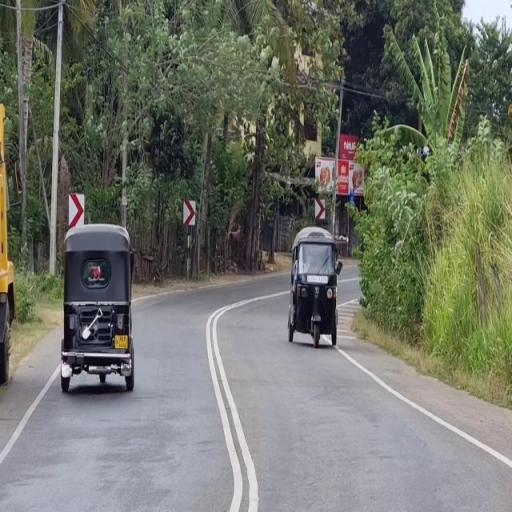double_white_line: (338, 346, 511, 474), (205, 296, 269, 510)
